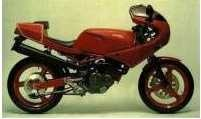motorcycle: (7, 4, 194, 113)
